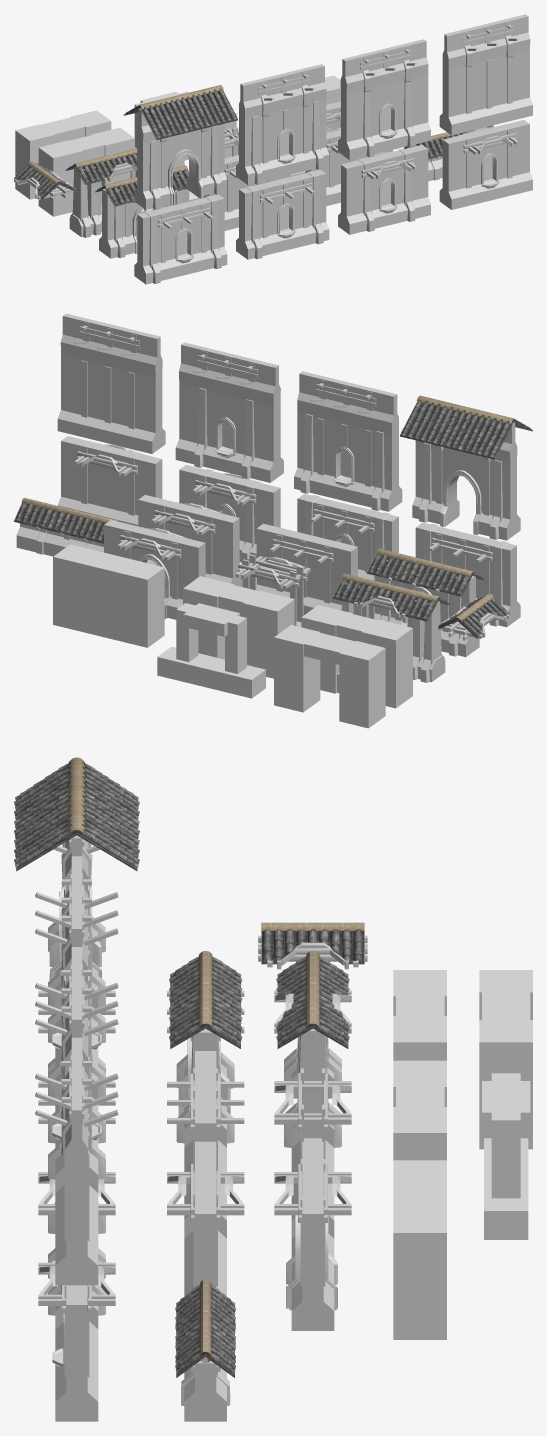
Rendered from City_Walls_1A1.fbx.
3 views of the same model, one above another, from view 1: azimuth 30°, elevation 25°; view 2: azimuth 150°, elevation 25°; view 3: azimuth 270°, elevation 25° (orthographic). The views are drawn at different scales.
Parts seen in each view (by area): view 1: City_Wall_1B3, City_Wall_1B4, City_Wall_1B1, City_Wall_1A8_B, City_Wall_1A8, City_Wall_1A7, City_Wall_1A7_B, City_Wall_1B2, City_Wall_Roof_1B1, City_Wall_1A3, City_Wall_1A4, Col.012 (+15 smaller); view 2: City_Wall_1B3, City_Wall_1B4, City_Wall_1B1, Col.014, City_Wall_1B2, City_Wall_1A8, City_Wall_1A1, City_Wall_1A7, City_Wall_1A8_B, City_Wall_1A2, City_Wall_1A5, City_Wall_Roof_1B1 (+22 smaller); view 3: Col.014, City_Wall_Roof_1B1, City_Wall_1B1, City_Wall_1A5, City_Wall_1A8, City_Wall_1A2, City_Wall_1B4, City_Wall_1B3, City_Wall_Roof_1A1, City_Wall_Roof_1A2, City_Wall_Roof_1C1, City_Wall_1A1 (+19 smaller).
Part boxes in pixels (box(x1,y1,x2,y2)): City_Wall_1B3: box(236, 64, 329, 184); City_Wall_1B4: box(338, 39, 430, 160); City_Wall_1B1: box(439, 14, 532, 135); City_Wall_1A8_B: box(338, 144, 430, 234); City_Wall_1A8: box(439, 120, 532, 209); City_Wall_1A7: box(134, 194, 227, 284); City_Wall_1A7_B: box(236, 169, 329, 259); City_Wall_1B2: box(134, 108, 227, 209); City_Wall_Roof_1B1: box(123, 85, 237, 139); City_Wall_1A3: box(99, 175, 189, 258); City_Wall_1A4: box(69, 163, 153, 237); Col.012: box(38, 140, 82, 216); City_Wall_1B3: box(294, 371, 402, 511); City_Wall_1B4: box(175, 342, 283, 482); City_Wall_1B1: box(57, 313, 165, 453); Col.014: box(53, 544, 164, 647); City_Wall_1B2: box(412, 423, 520, 540); City_Wall_1A8: box(57, 436, 162, 526); City_Wall_1A1: box(256, 523, 357, 615); City_Wall_1A7: box(415, 522, 520, 627); City_Wall_1A8_B: box(179, 465, 280, 564); City_Wall_1A2: box(138, 495, 242, 586); City_Wall_1A5: box(104, 520, 205, 619); City_Wall_Roof_1B1: box(400, 395, 532, 459); Col.014: box(393, 1160, 446, 1339); City_Wall_Roof_1B1: box(14, 757, 139, 871); City_Wall_1B1: box(35, 1037, 118, 1285); City_Wall_1A5: box(274, 1141, 351, 1330); City_Wall_1A8: box(38, 1262, 115, 1421); City_Wall_1A2: box(167, 1141, 244, 1296); City_Wall_1B4: box(35, 947, 118, 1192); City_Wall_1B3: box(35, 856, 118, 1099); City_Wall_Roof_1A1: box(169, 951, 242, 1048); City_Wall_Roof_1A2: box(276, 951, 349, 1048); City_Wall_Roof_1C1: box(175, 1279, 235, 1377); City_Wall_1A1: box(167, 1051, 244, 1238).
Size of what is drawn, in the model's own units: 4284 by 1650 by 2418.
